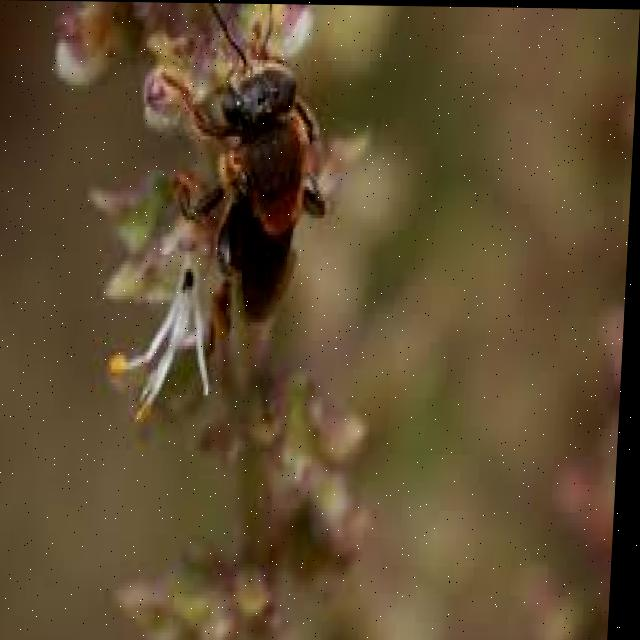Meliponula: (182, 2, 342, 336)
